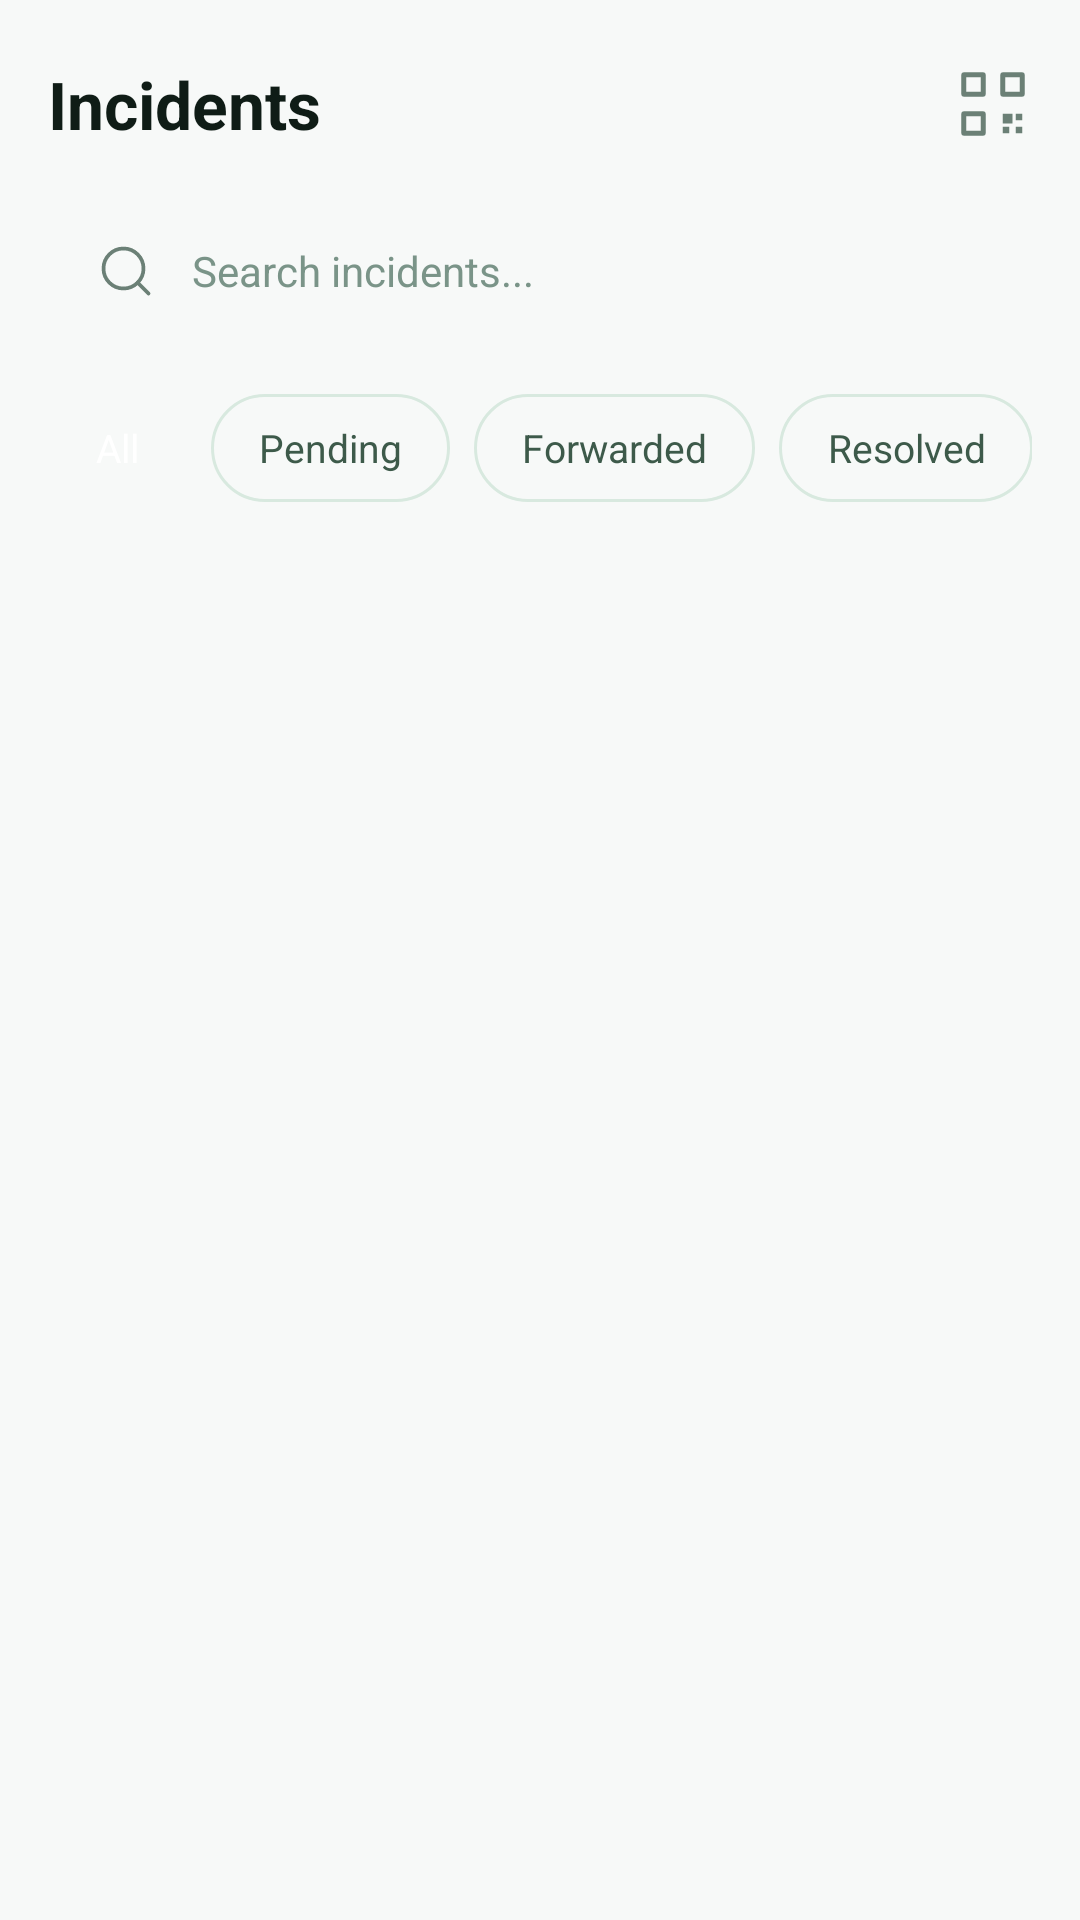

Named icons in this screenshot (1080w x 1920h) and their centers, (x=x, y=y):
qr code: (x=993, y=104)
